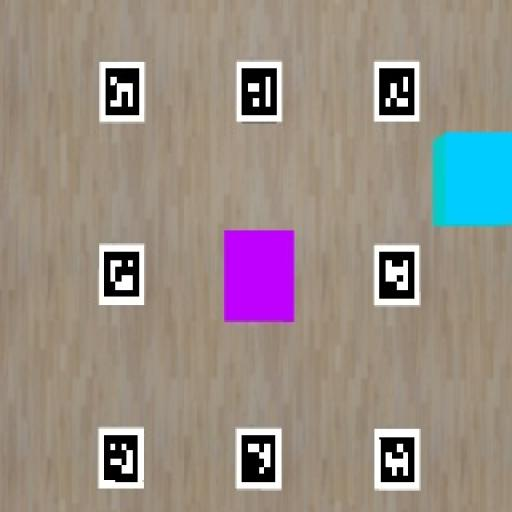car: (432, 133, 511, 228), (224, 231, 294, 322)
